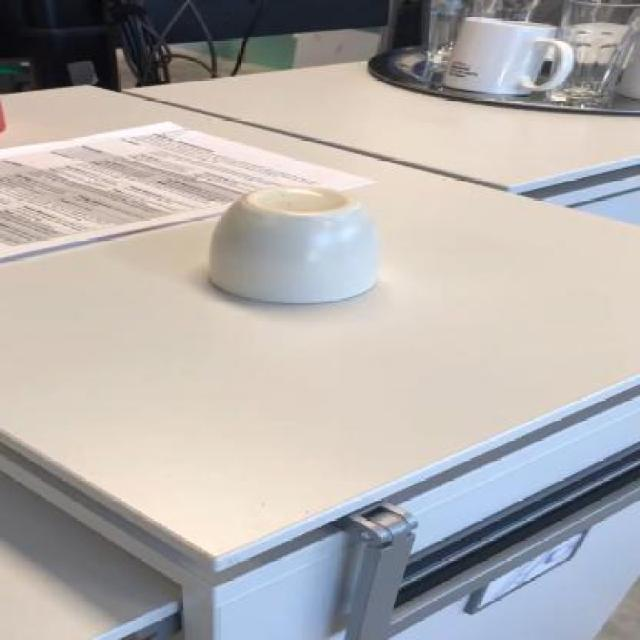cup: (210, 185, 382, 304)
